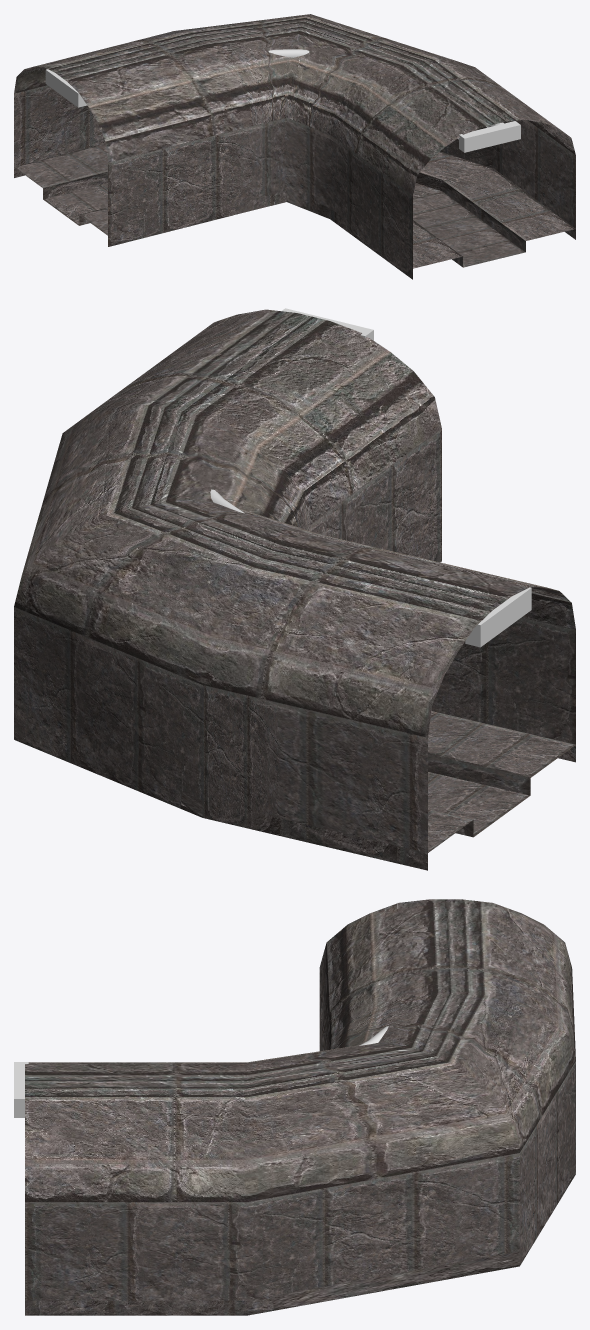
The model's file is 하수구 왼쪽 길.fbx.
3 views of the same model, one above another, from view 1: azimuth 30°, elevation 25°; view 2: azimuth 150°, elevation 25°; view 3: azimuth 270°, elevation 25° (orthographic). The views are drawn at different scales.
Visible parts, largest first — view 1: 하수구 왼쪽길, 하수도 왼쪽길 바닥, Box001, Box002; view 2: 하수구 왼쪽길, 하수도 왼쪽길 바닥, Box002; view 3: 하수구 왼쪽길, 하수도 왼쪽길 바닥, Box001.
Part boxes in pixels (bbox=[...]): 하수구 왼쪽길: bbox=[14, 14, 575, 279]; 하수도 왼쪽길 바닥: bbox=[14, 144, 575, 268]; Box001: bbox=[459, 121, 520, 152]; Box002: bbox=[45, 69, 87, 107]; 하수구 왼쪽길: bbox=[14, 309, 575, 870]; 하수도 왼쪽길 바닥: bbox=[180, 548, 575, 869]; Box002: bbox=[465, 584, 531, 647]; 하수구 왼쪽길: bbox=[25, 899, 575, 1315]; 하수도 왼쪽길 바닥: bbox=[25, 1159, 575, 1315]; Box001: bbox=[14, 1062, 28, 1117].
Size of the model in its own units: 306 by 110 by 309.
